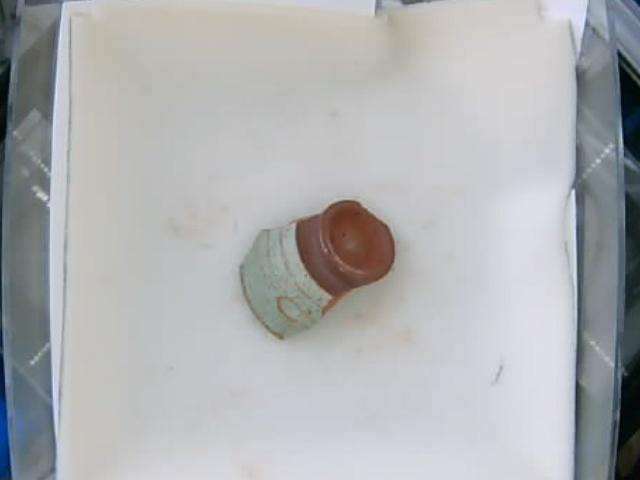China: (237, 201, 398, 337)
